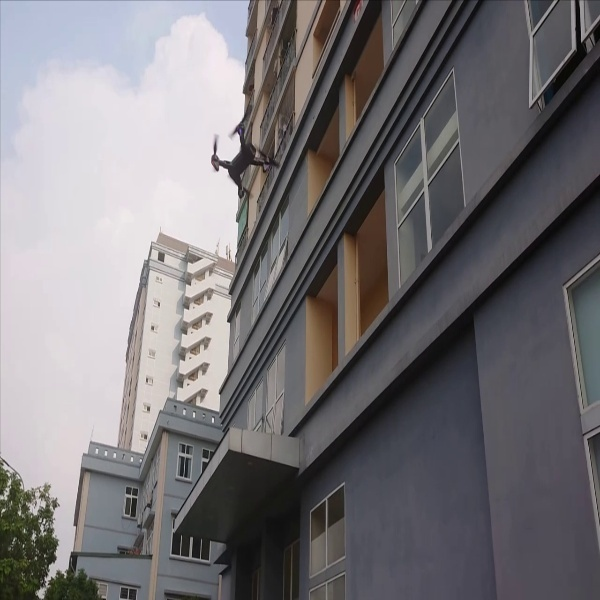drone: (210, 103, 283, 208)
